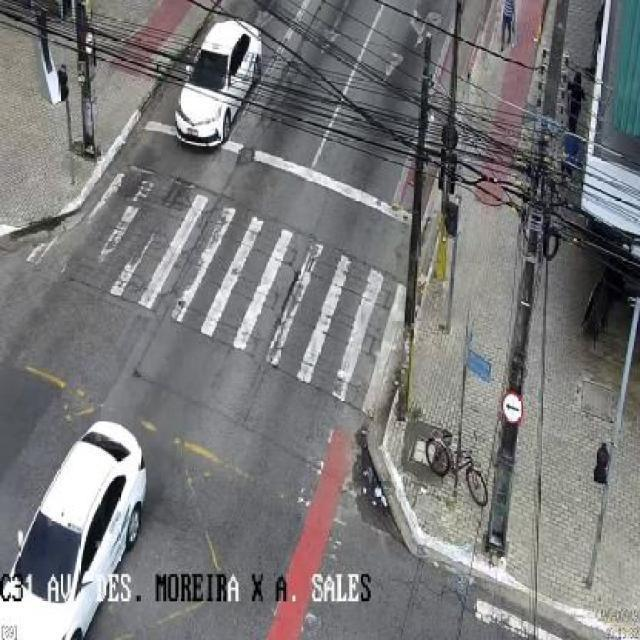Car: (0, 418, 145, 640), (172, 18, 264, 151)
Cycle: (423, 427, 490, 507)
